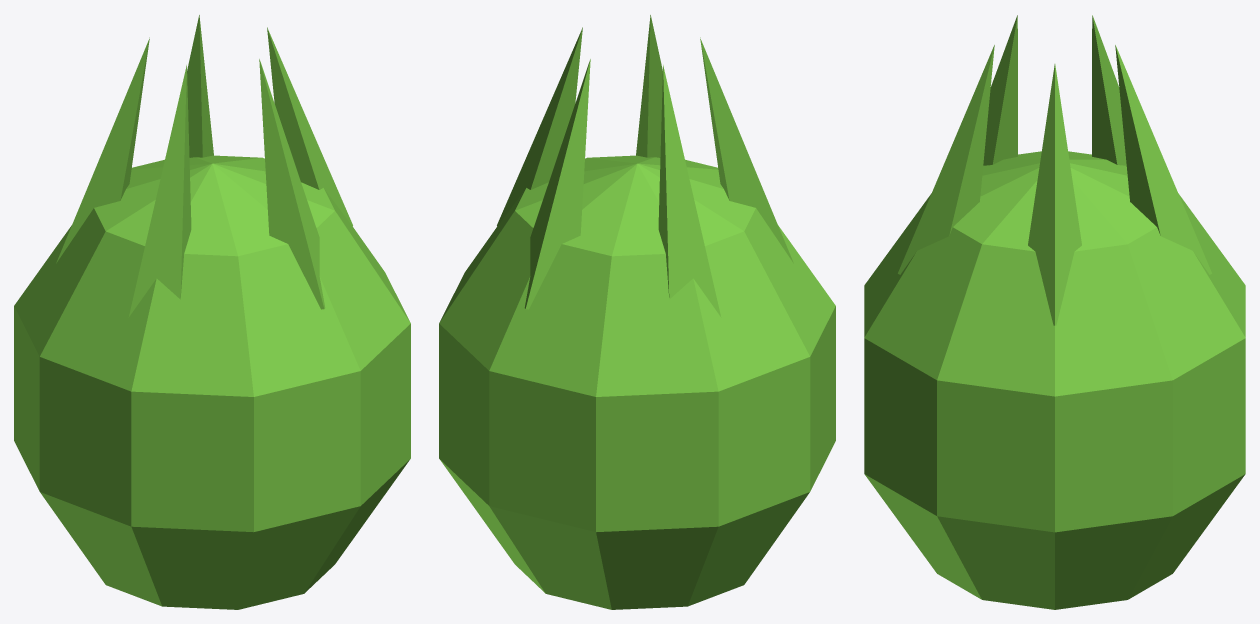
The model's file is totenlicht.glb.
3 renders of one model, left to right at view 1: azimuth 30°, elevation 25°; view 2: azimuth 150°, elevation 25°; view 3: azimuth 270°, elevation 25°, orthographic.
Size of the model in its own units: 0.4185 by 0.649 by 0.398.
1 material, 1 textured.
